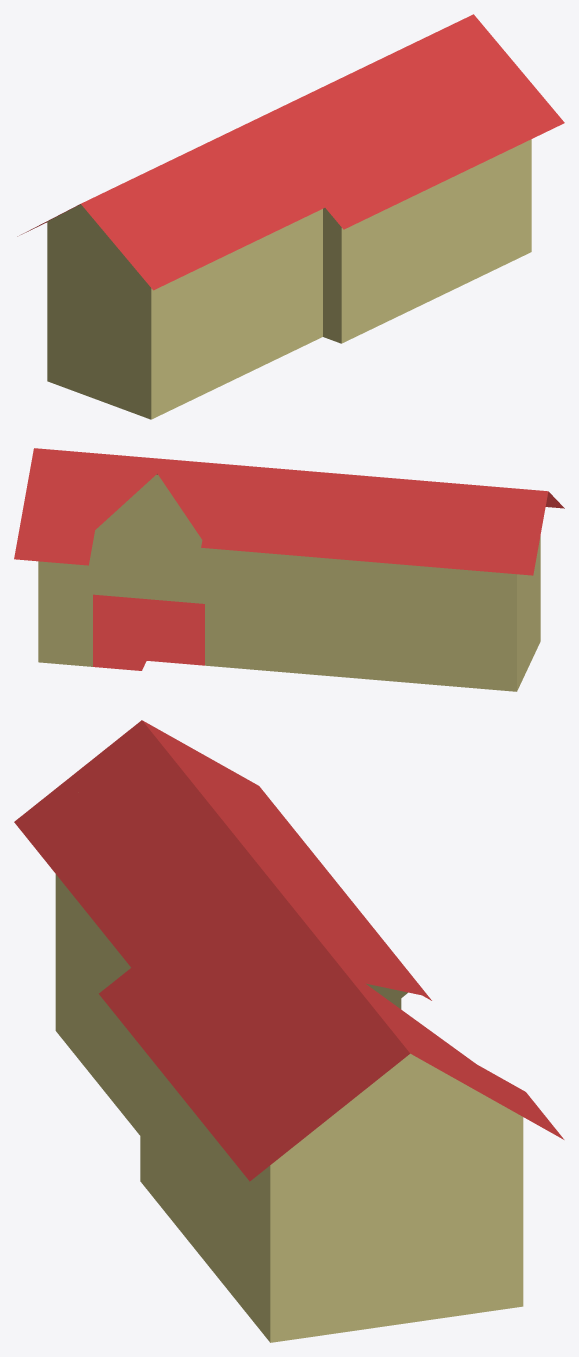
The picture shows the model from 3 angles, top to bottom: view 1: azimuth 30°, elevation 25°; view 2: azimuth 150°, elevation 25°; view 3: azimuth 270°, elevation 25°; orthographic projection. The views are drawn at different scales.
Bounding box in the file's own units: 40.25 × 25.09 × 14.26.
